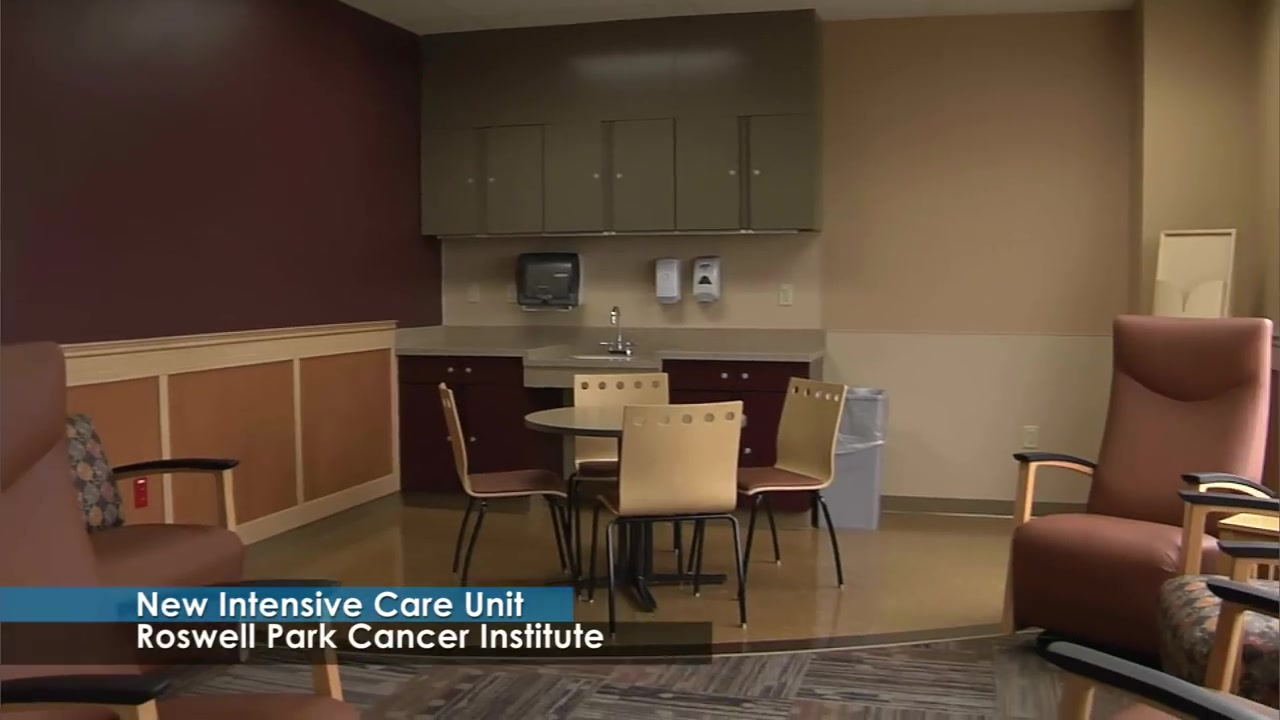cabinet: (675, 117, 825, 230), (411, 125, 542, 236), (546, 123, 676, 234)
chair: (589, 400, 748, 634), (439, 383, 582, 590), (732, 378, 848, 591), (574, 374, 669, 406)
counter: (387, 348, 810, 515)
countertop: (394, 326, 824, 363)
dispenser: (517, 253, 583, 311), (692, 253, 722, 303), (653, 257, 680, 306)
faucet: (600, 306, 639, 354)
handle: (614, 172, 624, 181), (466, 176, 476, 185), (592, 171, 601, 180), (751, 168, 761, 176), (488, 175, 496, 185), (742, 372, 751, 380), (469, 435, 478, 443), (720, 372, 729, 380), (446, 436, 455, 444), (465, 367, 474, 375), (728, 169, 737, 177), (447, 367, 455, 375)
sink: (524, 353, 663, 367)
sofa: (1, 339, 358, 720), (1009, 304, 1263, 661), (1046, 579, 1280, 720), (1159, 485, 1280, 720)
table: (523, 407, 699, 438)
waste_bin: (804, 385, 893, 533)
